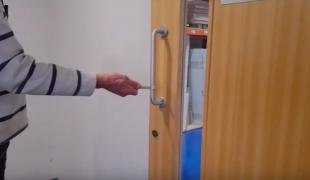doorhandle: (139, 19, 186, 109)
